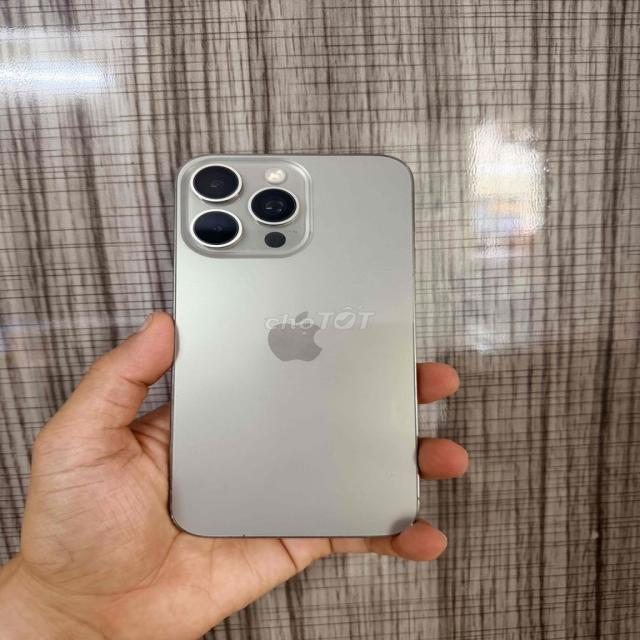gen_15: (155, 133, 428, 559)
